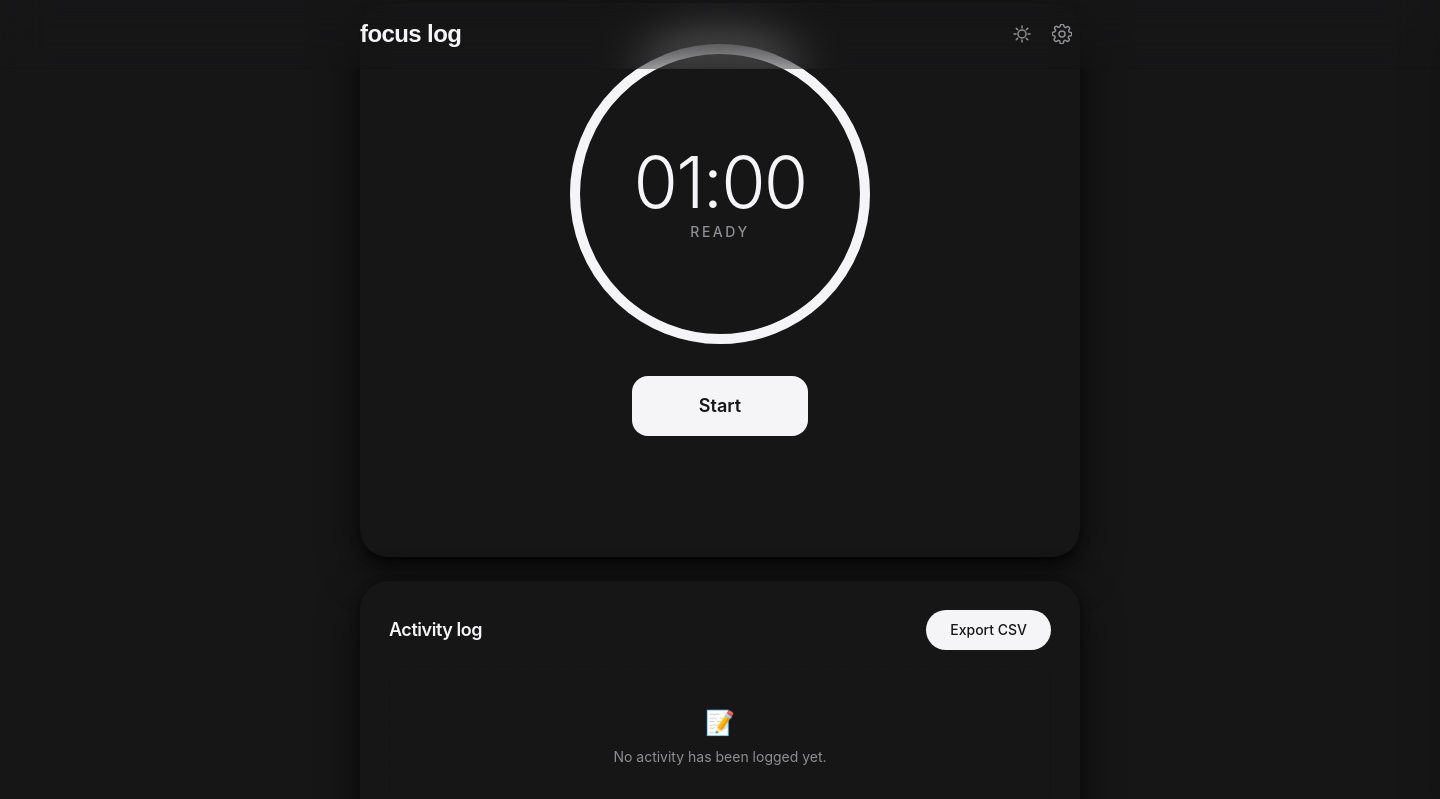
App component/DOM behaviour (fake timers) › logs a completed session and shows it live in the activity log (Req 8.3)
(page scrolled)
Expected: the text "No activity has been logged yet." is shown, [613, 747, 827, 767]
Expected: the text "01:00" is shown, [634, 146, 807, 218]
Click the button "Start": (720, 406) [632, 376, 808, 436]
Wait 60000 ms
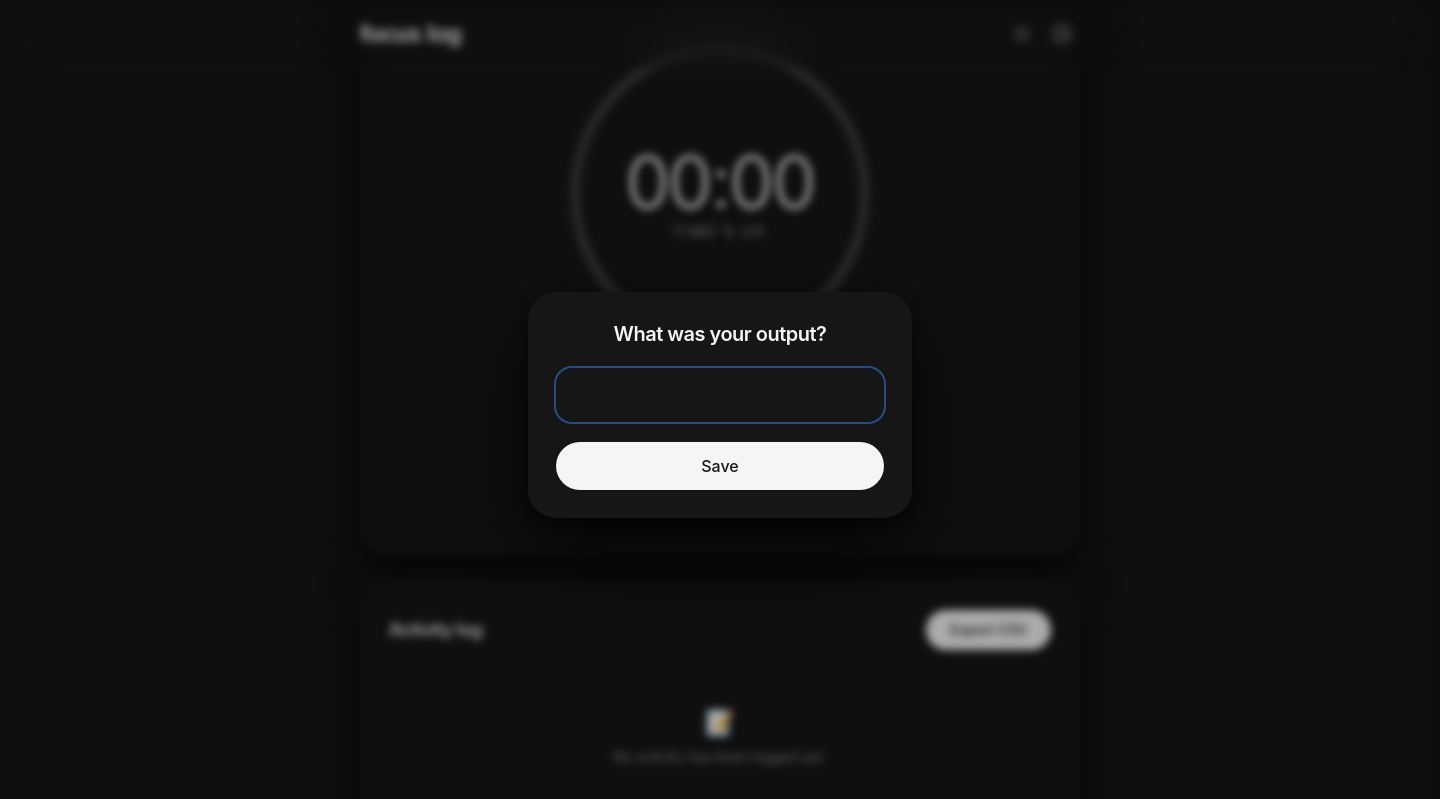
Expected: the heading "What was your output?" is shown, [614, 322, 826, 346]
Expected: the text "00:00" is shown, [625, 146, 815, 218]
In the field: (720, 395) [556, 368, 884, 422], type "wrote tests"
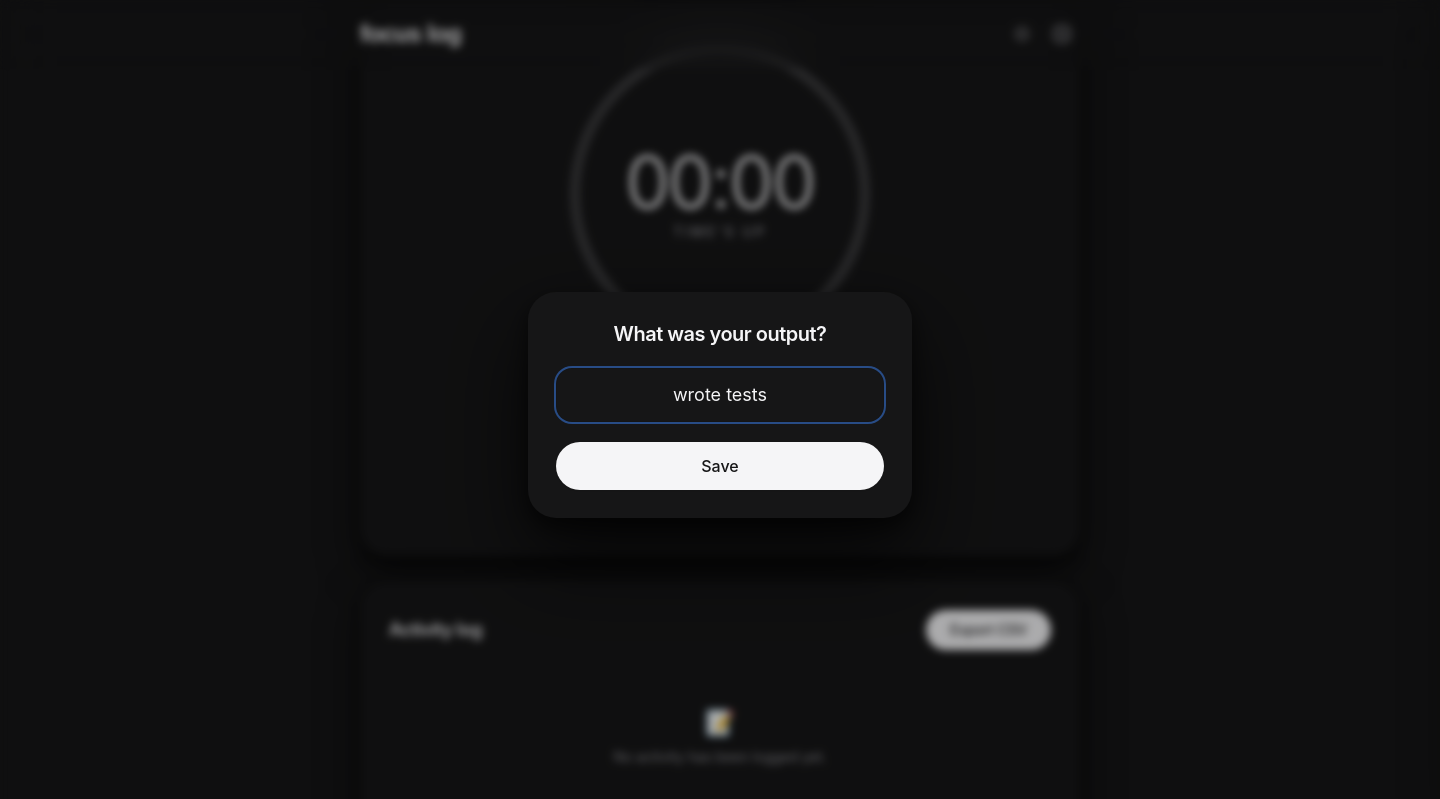
Click the button "Save": (720, 466) [556, 442, 884, 490]
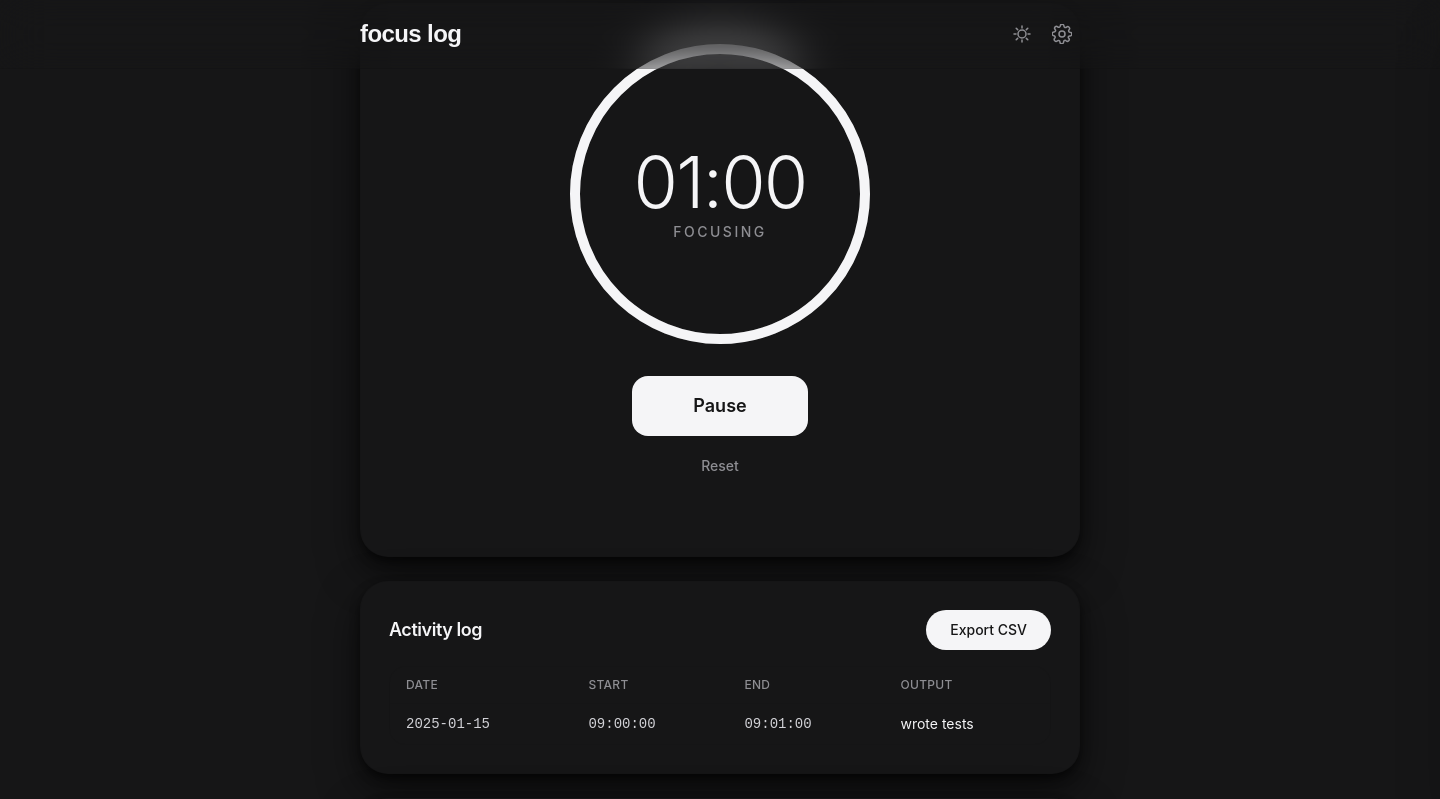
Expected: the text "No activity has been logged yet" is not shown
Expected: the text "wrote tests" is shown, [884, 703, 1050, 744]
Expected: the heading "What was your output" is gone
